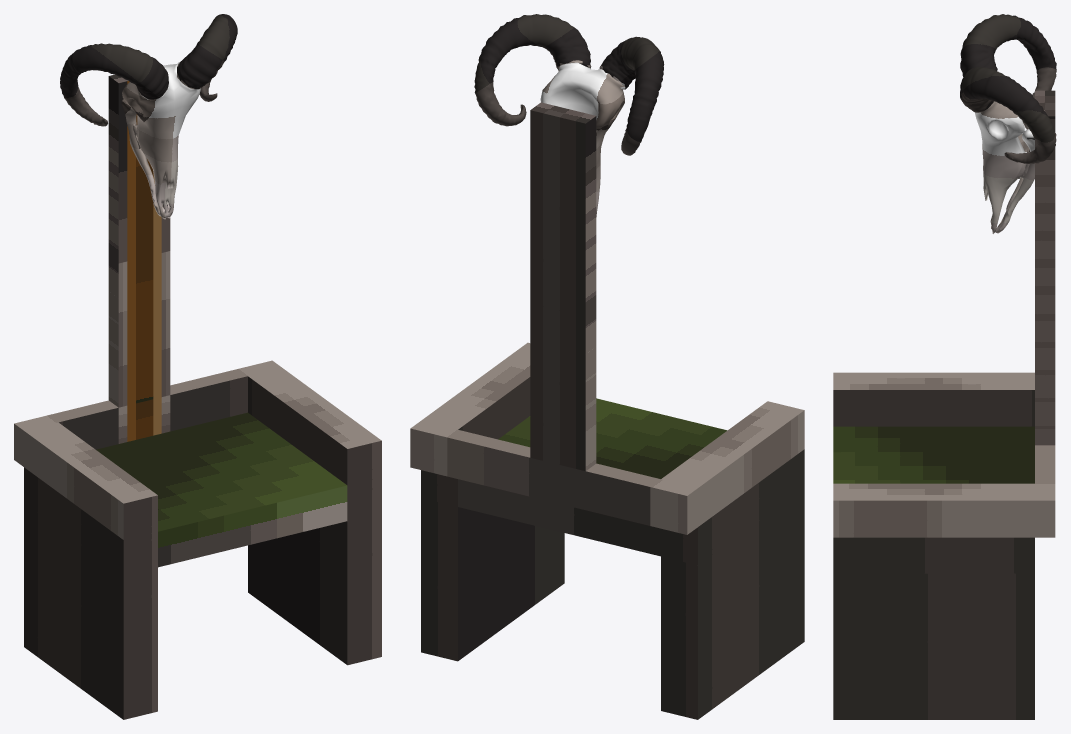
File: throne_292x22.gltf
3 renders of one model, left to right at view 1: azimuth 30°, elevation 25°; view 2: azimuth 150°, elevation 25°; view 3: azimuth 270°, elevation 25°, orthographic. The views are drawn at different scales.
Visible parts, largest first — view 1: Goat_throne; view 2: Goat_throne; view 3: Goat_throne.
Part boxes in pixels (left/top/right/bottom): Goat_throne: left=14, top=14, right=381, bottom=719; Goat_throne: left=410, top=14, right=804, bottom=719; Goat_throne: left=833, top=14, right=1056, bottom=719.
Bounding box in the file's own units: 1.5 × 3.33 × 1.11.
1 material, 1 textured.
